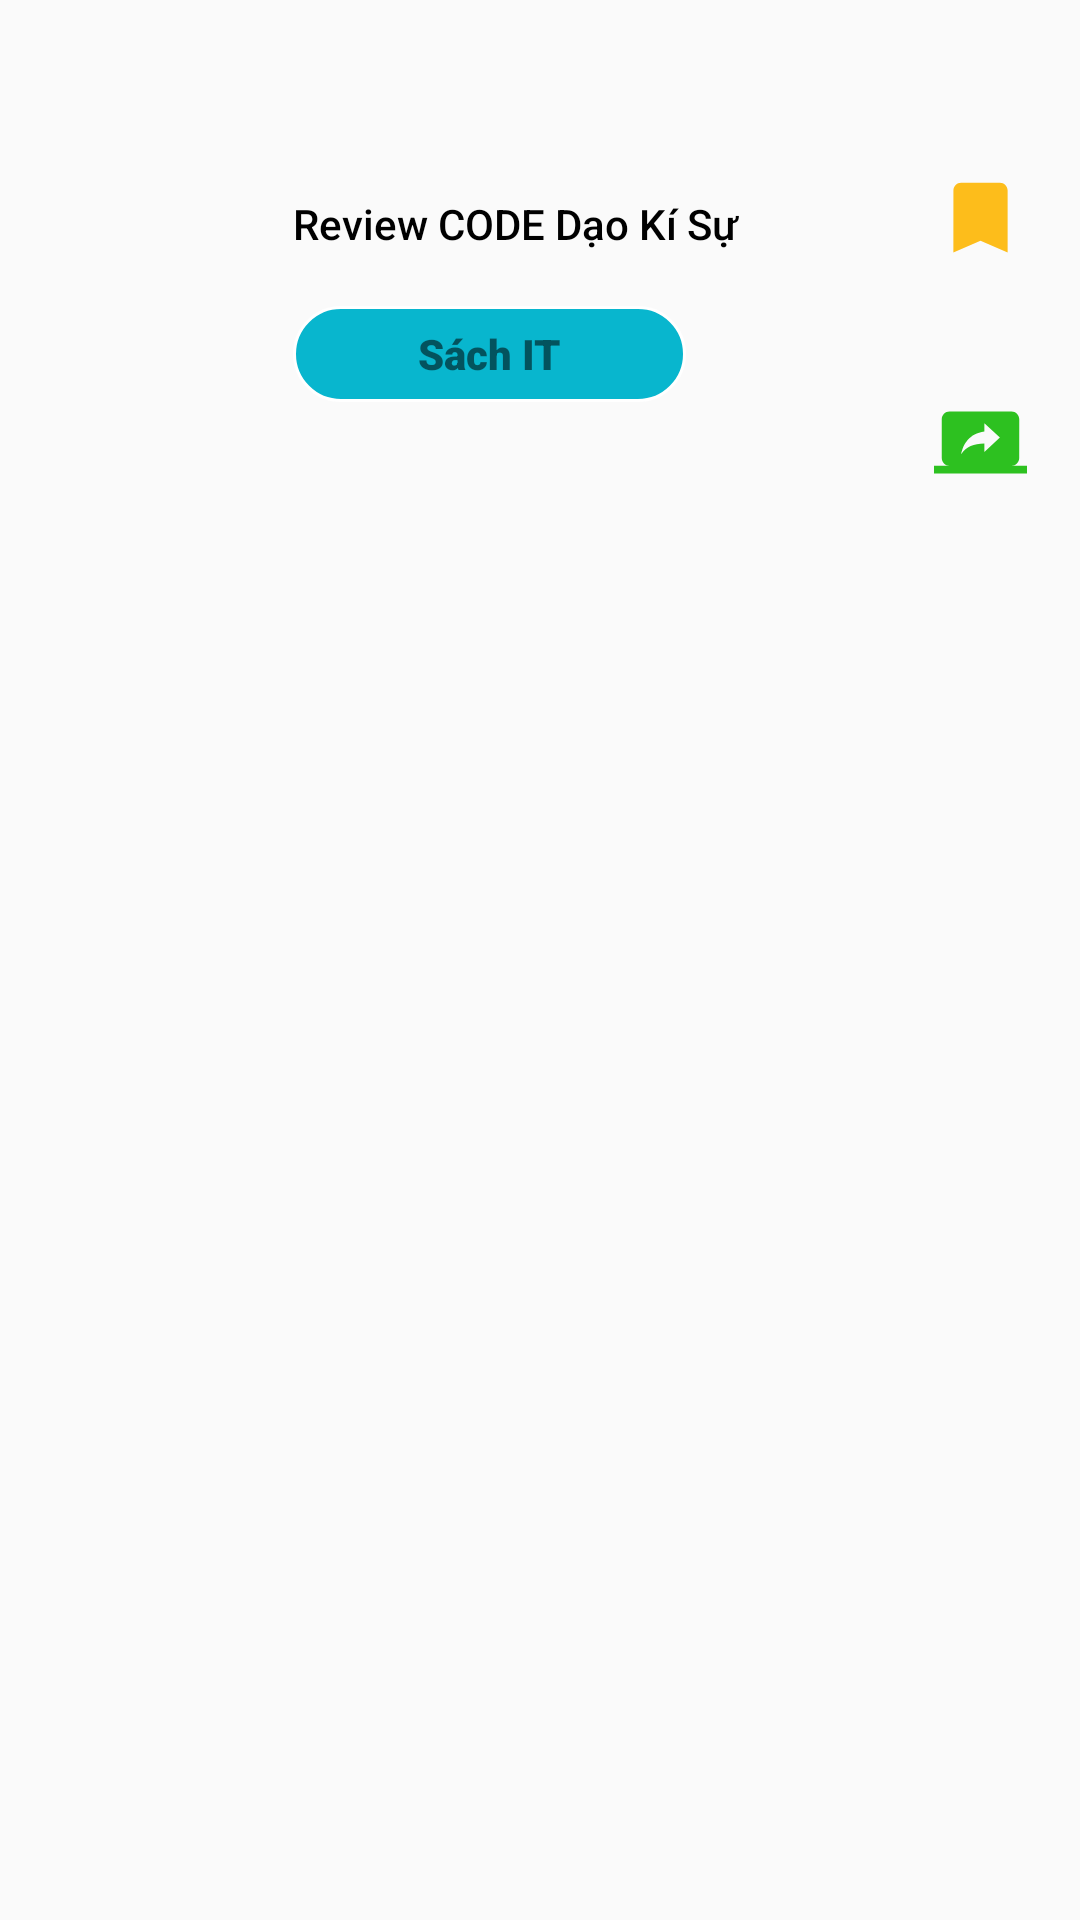

Locate icon controls on the screen. Image size 1080 × 1920, boxes as [x1=x1, y1=y1, x2=x2, y2=y2].
screen share: [x1=934, y1=411, x2=1027, y2=474]
